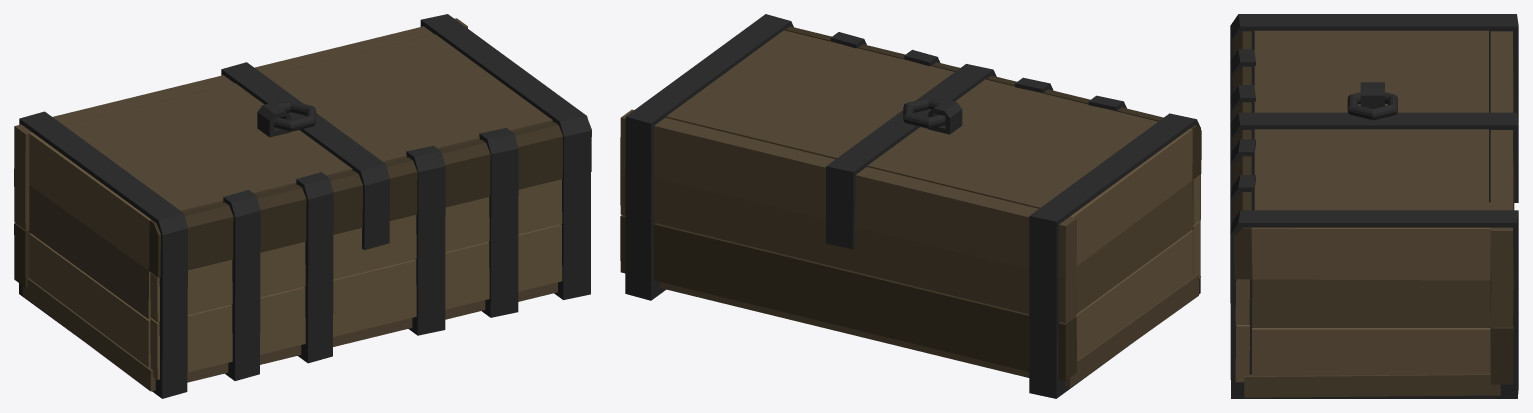
The model's file is EA03_Prop_Container_Chest_02a.glb.
3 renders of one model, left to right at view 1: azimuth 30°, elevation 25°; view 2: azimuth 150°, elevation 25°; view 3: azimuth 270°, elevation 25°, orthographic.
Visible parts, largest first — view 1: EA03_Prop_Container_Chest_02a; view 2: EA03_Prop_Container_Chest_02a; view 3: EA03_Prop_Container_Chest_02a.
Part boxes in pixels (x1,y1,x2,y2): EA03_Prop_Container_Chest_02a: (14, 14, 591, 398); EA03_Prop_Container_Chest_02a: (620, 14, 1201, 398); EA03_Prop_Container_Chest_02a: (1230, 14, 1518, 398).
Size of the model in its own units: 1.69 by 0.7096 by 0.9541.
Materials: 1 (1 with a texture image).
